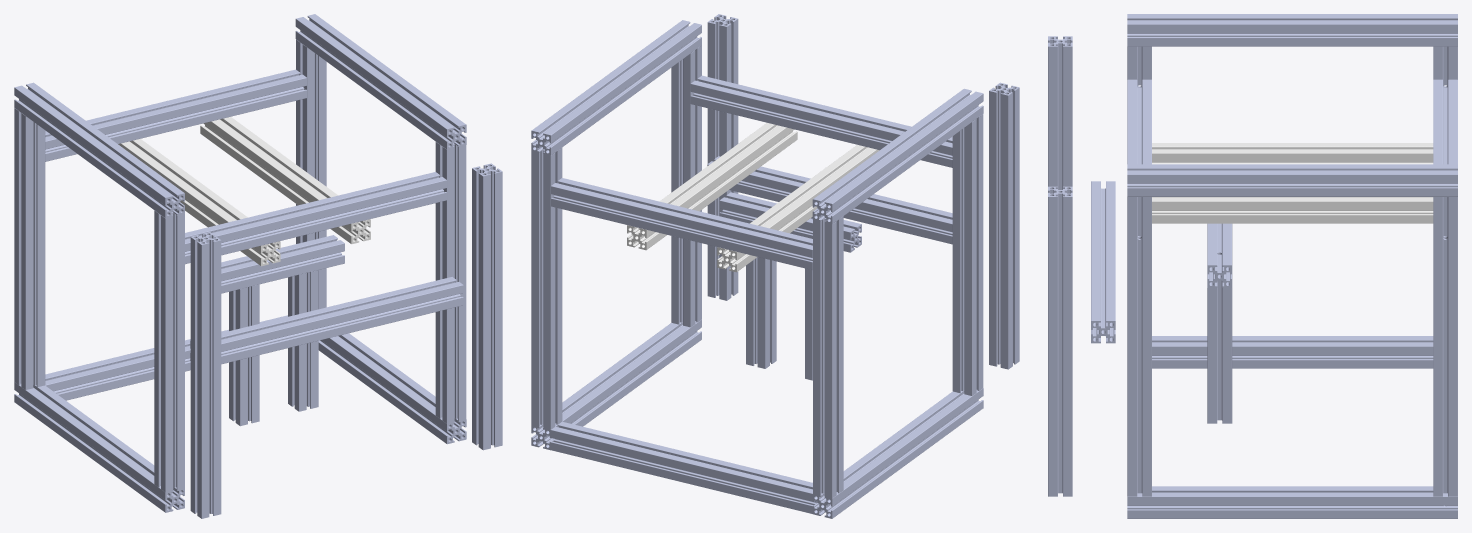
The model's file is TXLC-TXLC-VORON0.2-H1-19.glb.
The picture shows the model from 3 angles, left to right: view 1: azimuth 30°, elevation 25°; view 2: azimuth 150°, elevation 25°; view 3: azimuth 270°, elevation 25°; orthographic projection. The views are drawn at different scales.
Visible parts, largest first — view 1: NAUO1; view 2: NAUO1; view 3: NAUO1.
Part boxes in pixels (left/top/right/bottom): NAUO1: left=14, top=14, right=502, bottom=518; NAUO1: left=531, top=14, right=1019, bottom=518; NAUO1: left=1048, top=14, right=1457, bottom=518.
Size of the model in its own units: 0.23 by 0.23 by 0.248.
